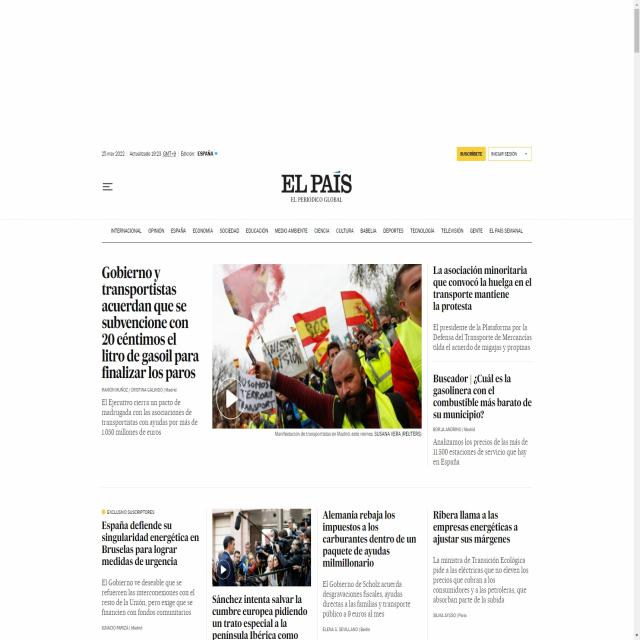menu-bar: (104, 218, 530, 242)
